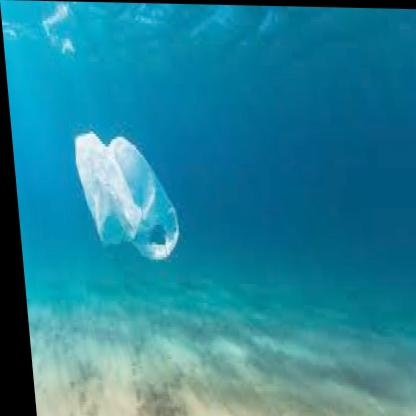trash: (75, 132, 178, 259)
